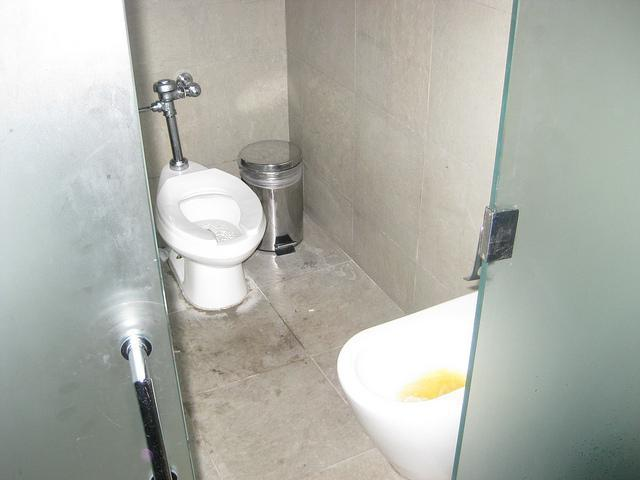Bote de Basura: (234, 140, 301, 264)
